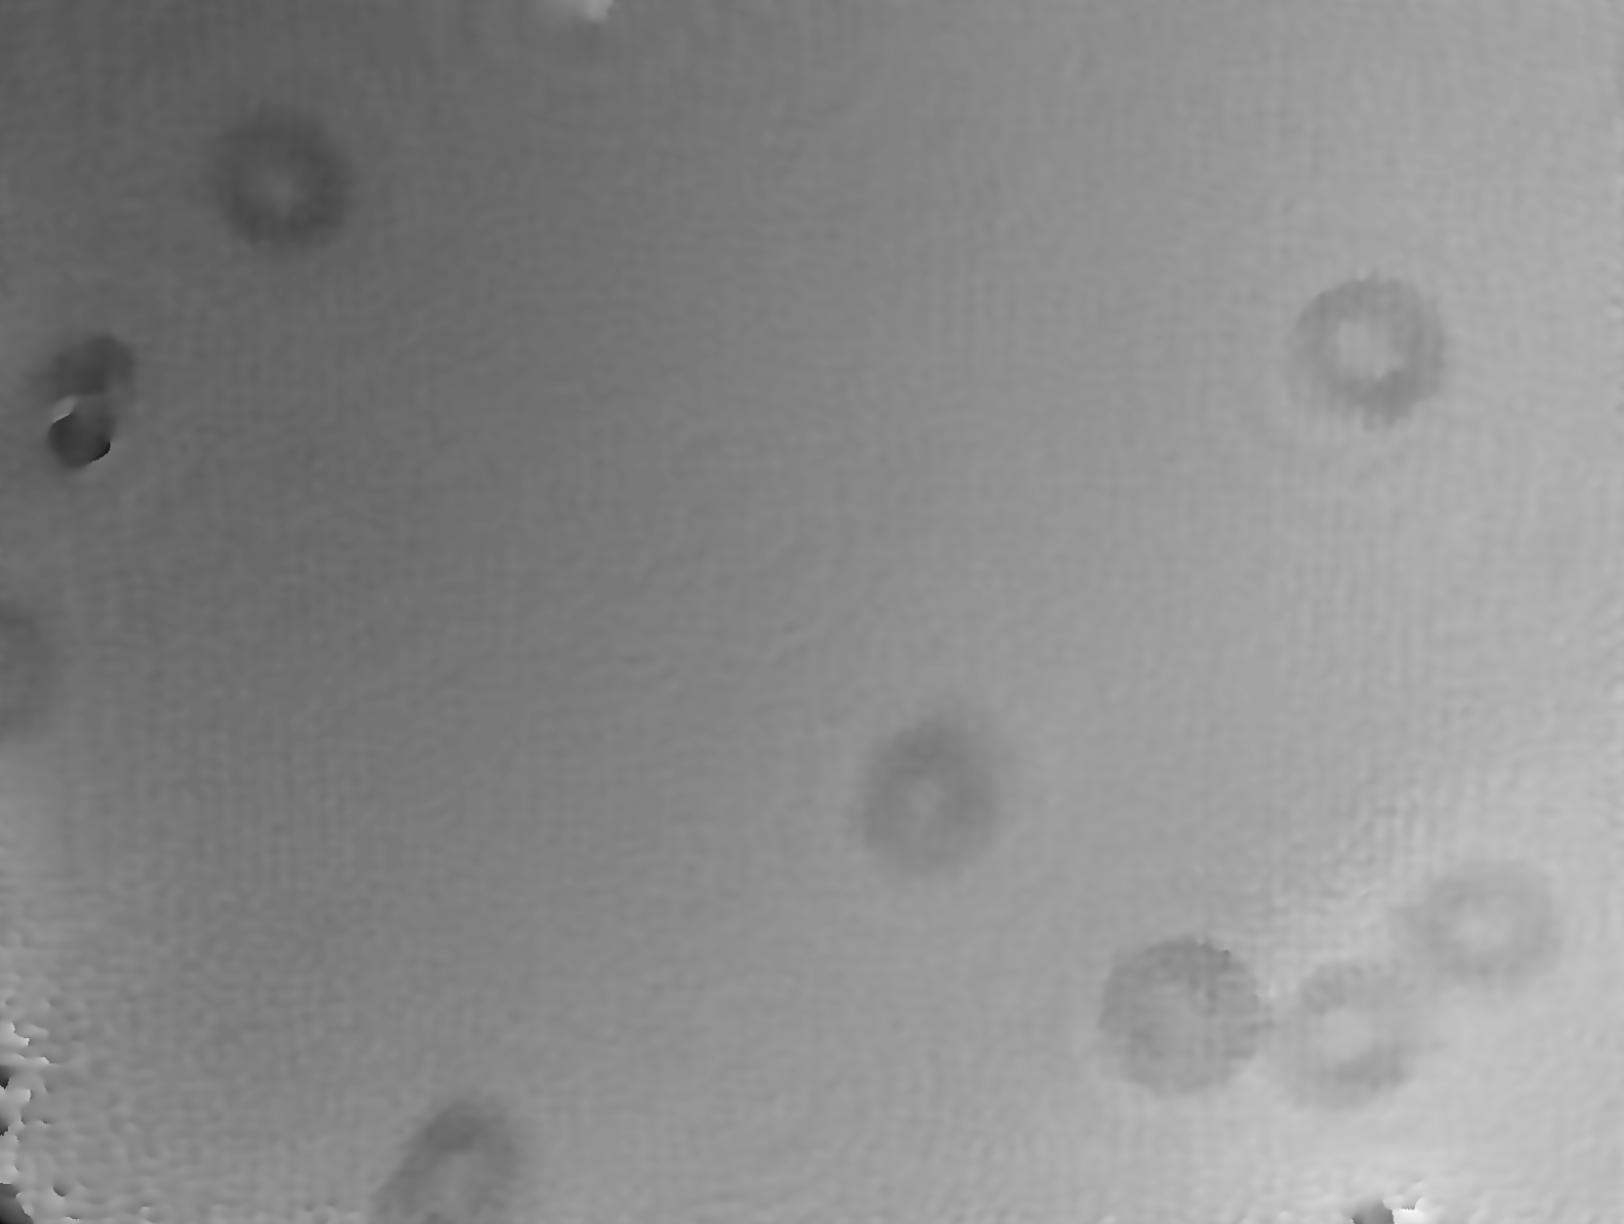cell: (798, 672, 1058, 930), (161, 54, 411, 312), (1052, 899, 1308, 1137), (1247, 234, 1490, 480), (1252, 930, 1465, 1144), (1, 306, 192, 532), (1384, 829, 1596, 1026)
